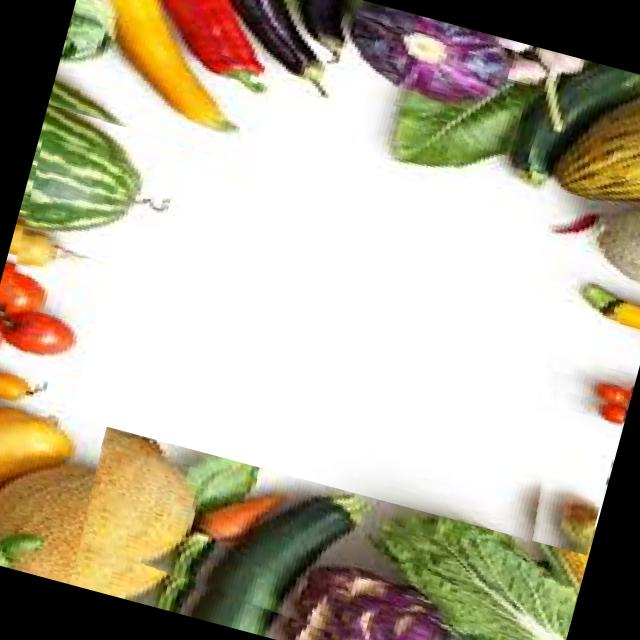Organic: (41, 0, 640, 292), (61, 425, 588, 640), (0, 129, 180, 584), (504, 276, 640, 555)
